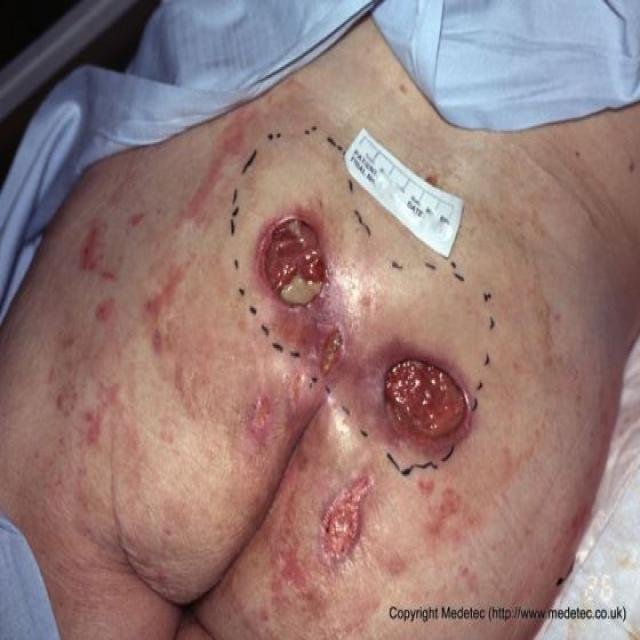stage-2: (322, 475, 372, 559)
stage-3: (384, 358, 470, 443)
stage-4: (262, 218, 328, 305)
